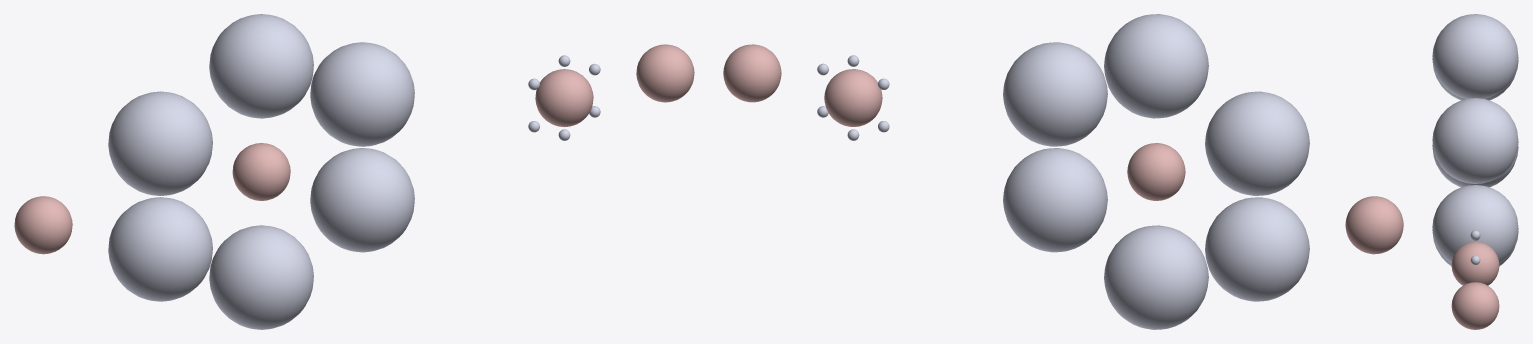
The model's file is Ebbinghaus Demo.fbx.
3 views of the same model, side by side, from view 1: azimuth 30°, elevation 25°; view 2: azimuth 150°, elevation 25°; view 3: azimuth 270°, elevation 25° (orthographic). The views are drawn at different scales.
Visible parts, largest first — view 1: Sphere__2_, Sphere__4_, Sphere__3_, Sphere__7_, Sphere__5_, Sphere__6_, Sphere__8_, Sphere__16_, Sphere, Sphere__1_; view 2: Sphere__4_, Sphere__2_, Sphere__6_, Sphere__3_, Sphere__7_, Sphere__5_, Sphere__8_, Sphere__16_, Sphere, Sphere__1_; view 3: Sphere__4_, Sphere__3_, Sphere__7_, Sphere__8_, Sphere__1_, Sphere__2_, Sphere__5_, Sphere__6_, Sphere__10_, Sphere__12_.
Boxes of the visible parts, x1,y1,x2,y2 form: Sphere__2_: [108, 197, 212, 301]; Sphere__4_: [310, 42, 414, 146]; Sphere__3_: [209, 14, 313, 118]; Sphere__7_: [310, 148, 414, 252]; Sphere__5_: [108, 91, 212, 195]; Sphere__6_: [209, 225, 313, 329]; Sphere__8_: [636, 44, 694, 102]; Sphere__16_: [14, 196, 72, 254]; Sphere: [232, 143, 290, 200]; Sphere__1_: [535, 69, 593, 127]; Sphere__4_: [1003, 42, 1107, 146]; Sphere__2_: [1205, 197, 1309, 301]; Sphere__6_: [1104, 225, 1208, 329]; Sphere__3_: [1104, 14, 1208, 118]; Sphere__7_: [1003, 148, 1107, 252]; Sphere__5_: [1205, 91, 1309, 195]; Sphere__8_: [723, 44, 781, 102]; Sphere__16_: [1345, 196, 1403, 254]; Sphere: [1127, 143, 1185, 200]; Sphere__1_: [824, 69, 882, 126]; Sphere__4_: [1432, 98, 1518, 183]; Sphere__3_: [1432, 14, 1518, 98]; Sphere__7_: [1432, 185, 1518, 263]; Sphere__8_: [1451, 282, 1499, 329]; Sphere__1_: [1451, 241, 1499, 285]; Sphere__2_: [1432, 144, 1518, 187]; Sphere__5_: [1432, 58, 1518, 100]; Sphere__6_: [1432, 229, 1518, 266]; Sphere__10_: [1470, 230, 1480, 239]; Sphere__12_: [1470, 255, 1480, 264].
Size of the model in its own units: 1332 by 580 by 180.
